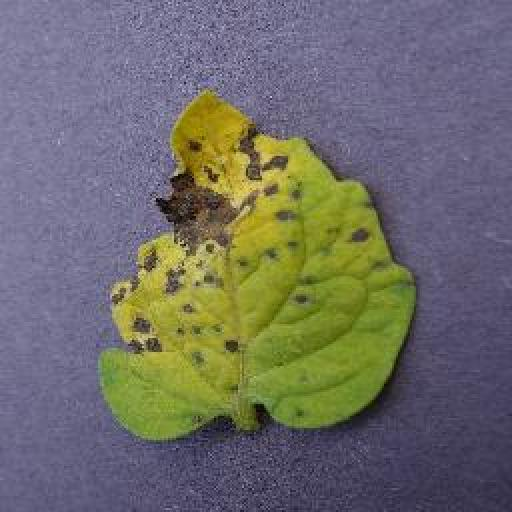Septoria: (99, 82, 415, 442)
